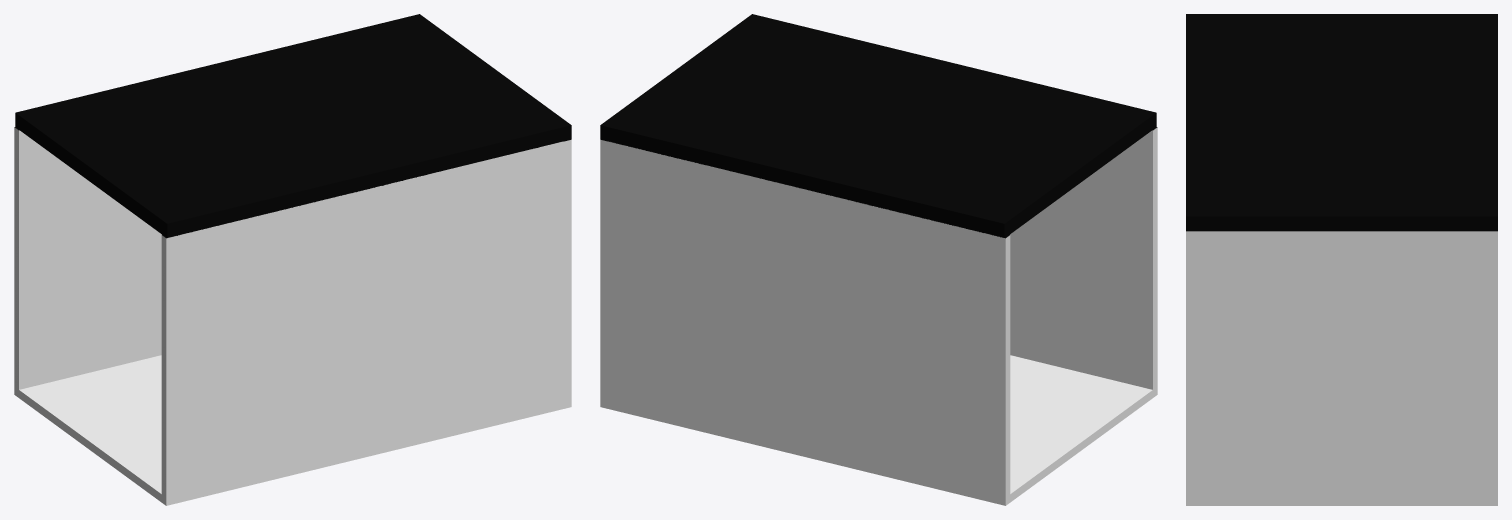
File: house2.fbx
3 views of the same model, side by side, from view 1: azimuth 30°, elevation 25°; view 2: azimuth 150°, elevation 25°; view 3: azimuth 270°, elevation 25° (orthographic). The views are drawn at different scales.
Parts seen in each view (by area): view 1: Cube; view 2: Cube; view 3: Cube.
Part boxes in pixels (<box>): Cube: <box>14,14,571,505</box>; Cube: <box>600,14,1157,505</box>; Cube: <box>1186,14,1497,505</box>.
Bounding box in the file's own units: 20.02 × 13.3 × 12.99.
Materials: 1 (1 with a texture image).
